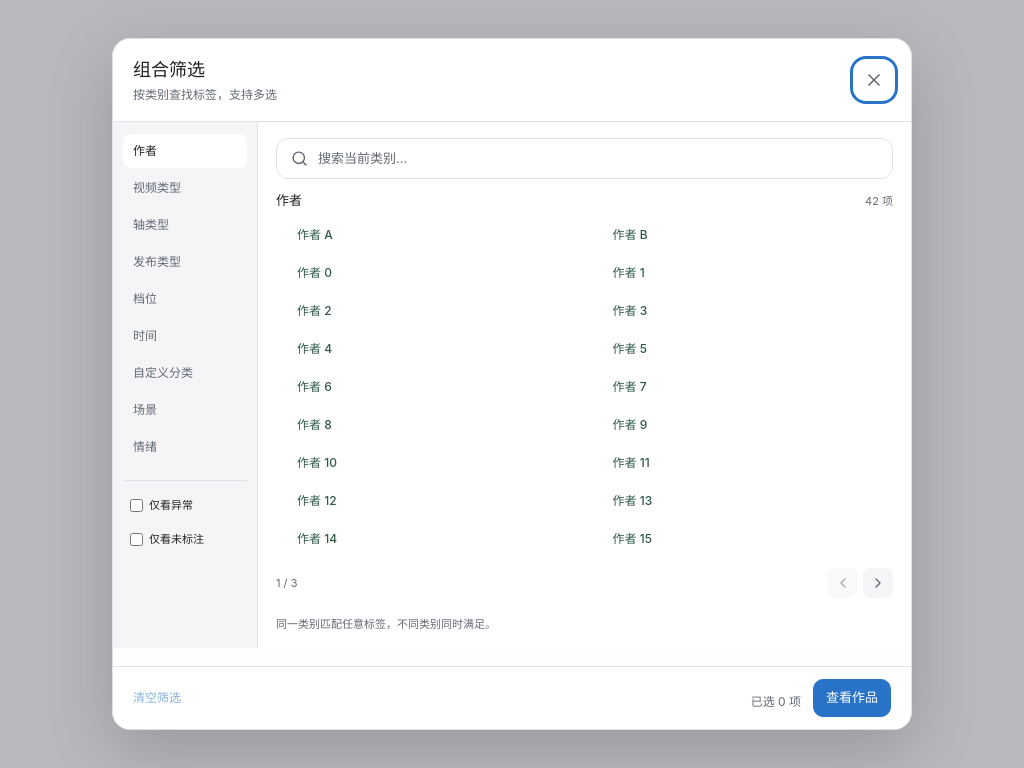
Test: multi category inventory filter › filters, searches and summarizes dynamic category tags while excluding deleted tags
The width and height of the screenshot is (1024, 768).
Click the button "场景": click(185, 410) [123,393,247,427]
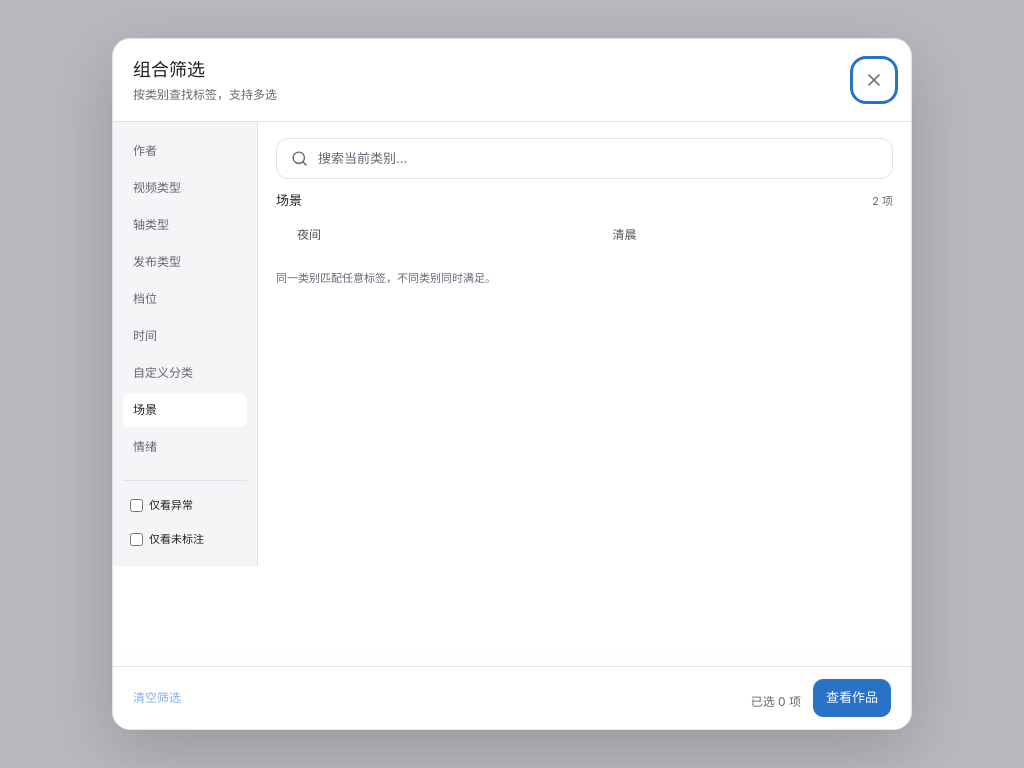
Now the heading "场景" is shown, box [276,191,302,211]
Click the button "夜间": click(309, 234) [276,218,578,252]
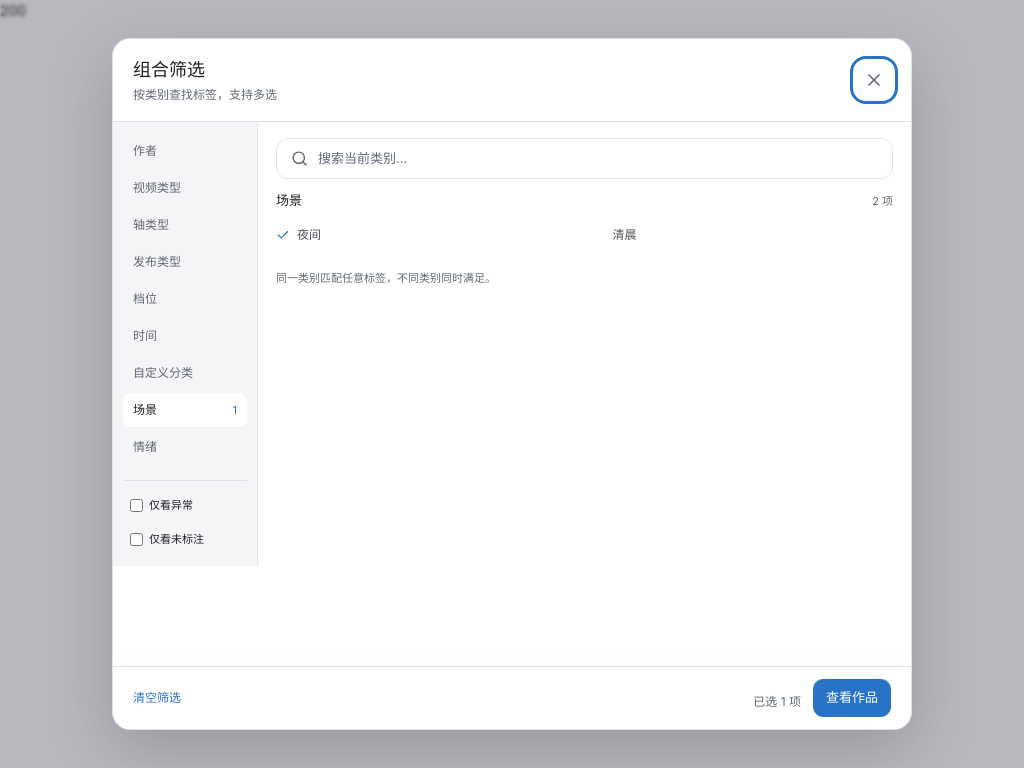
In the search field named "搜索筛选标签": (598, 159) [318,139,878,178], type "清晨"
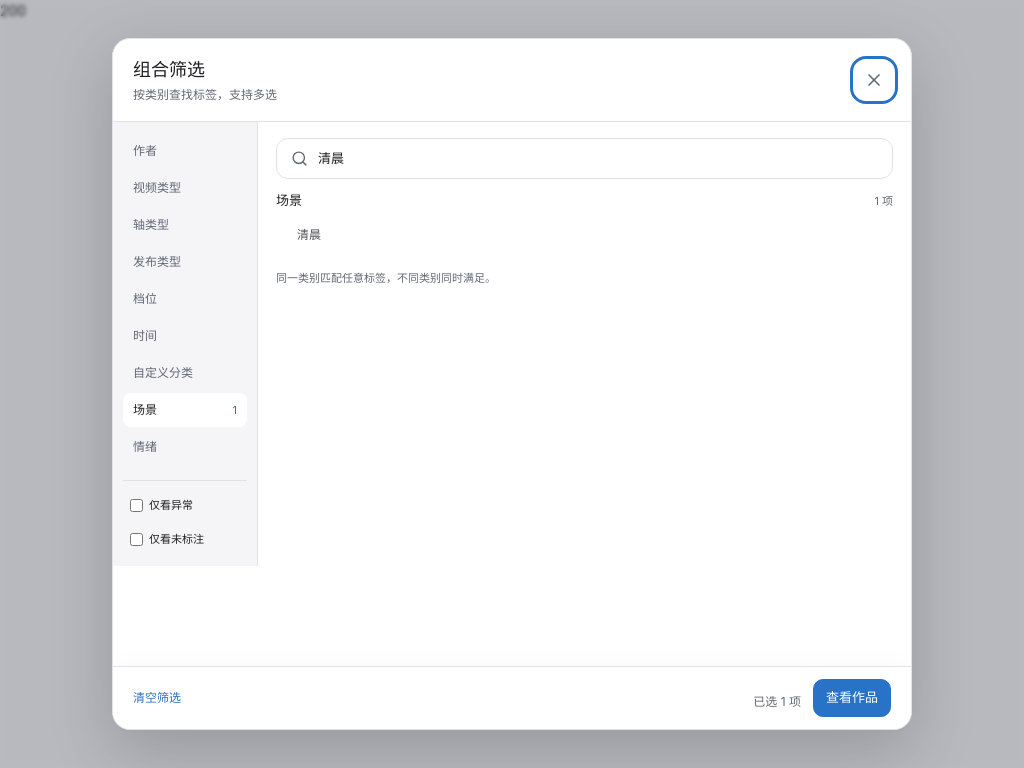
Now the button "夜间" is gone
Click the button "清晨": click(309, 234) [276,218,578,252]
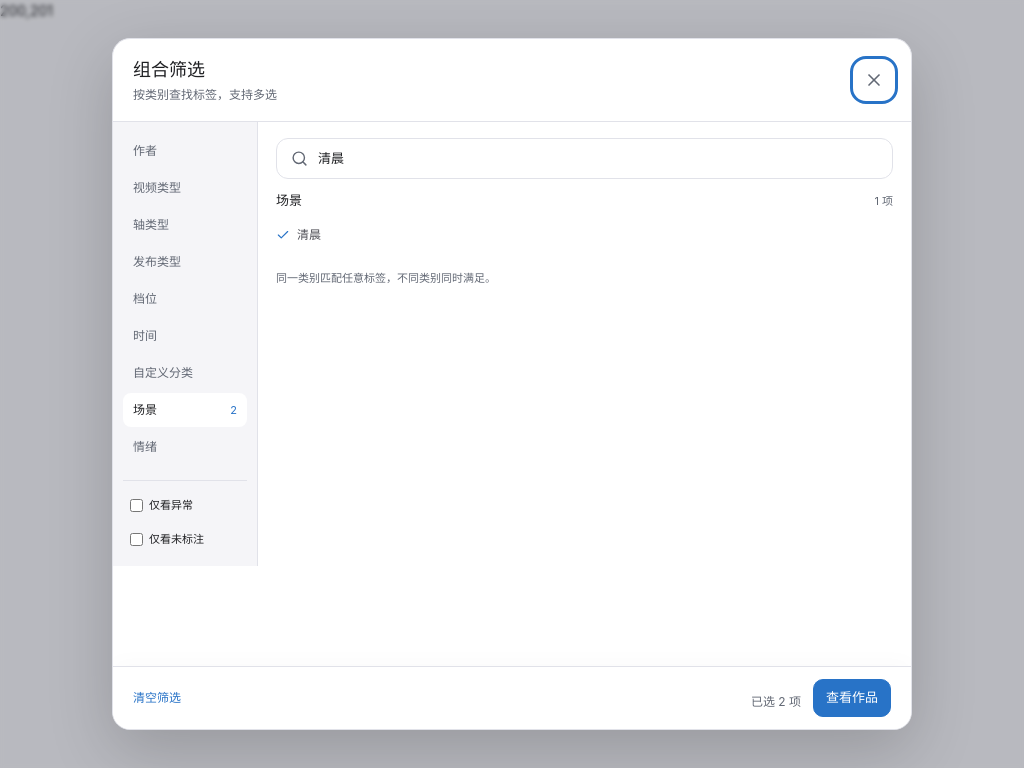
Click the button "情绪": click(185, 447) [123,430,247,464]
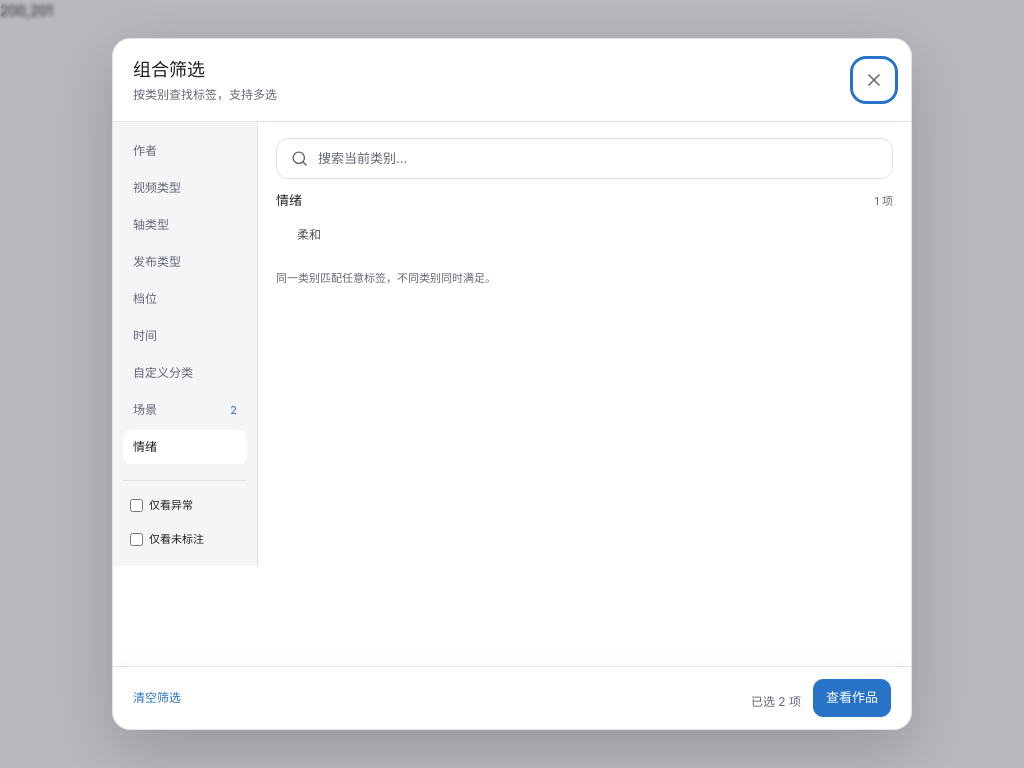
Click the button "柔和": click(309, 234) [276,218,578,252]
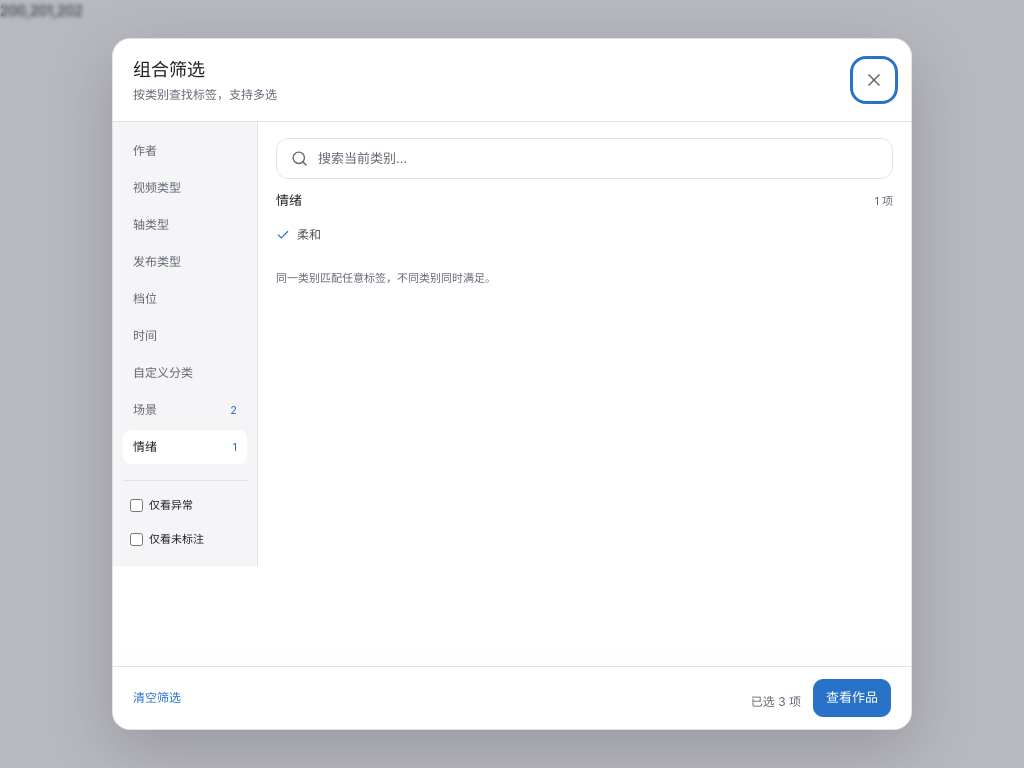
Now the text named "筛选结果" reads "200,201,202", box [0,2,83,19]
